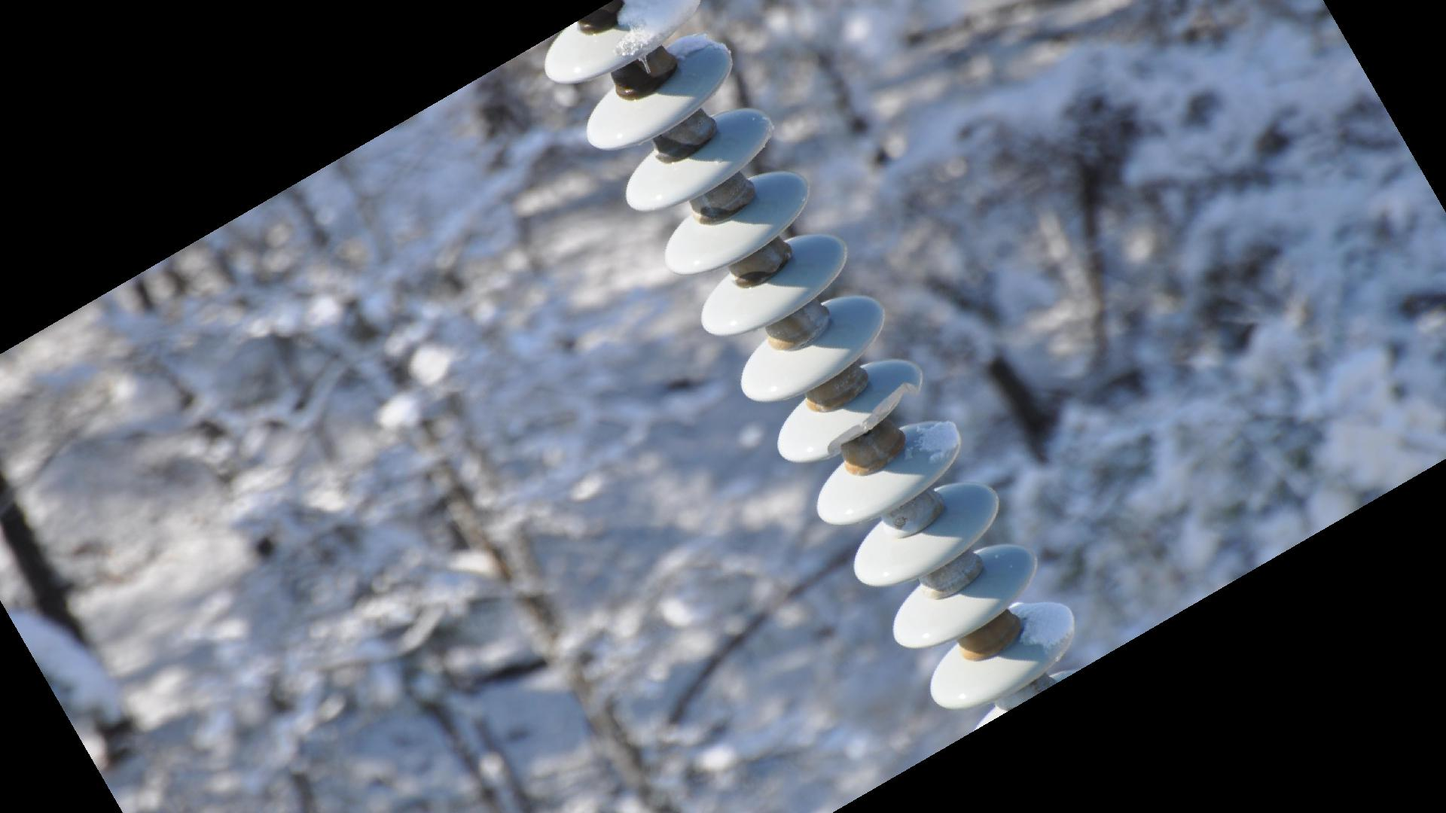insulator: (538, 1, 1084, 730)
insulator_breakage: (821, 373, 926, 463)
